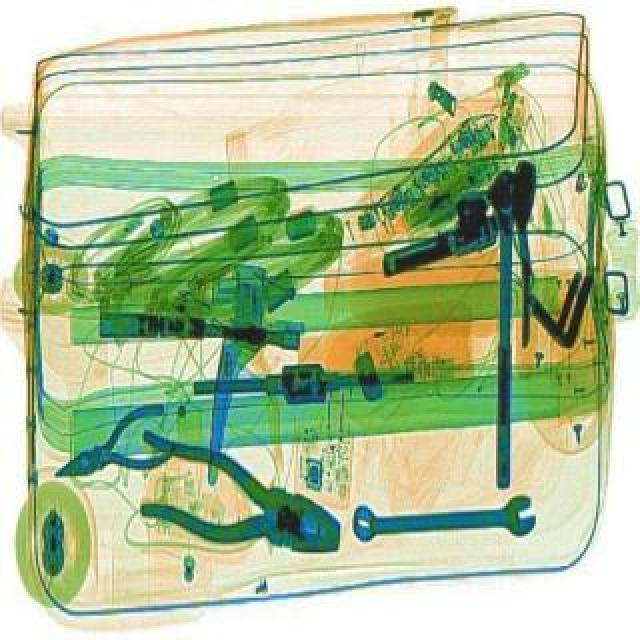gun: (366, 194, 510, 286)
scissors: (354, 500, 538, 552)
wrench: (114, 430, 362, 582), (44, 402, 188, 506)
